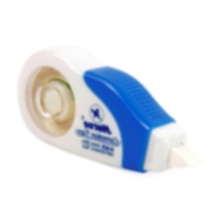correction_fluid: (15, 43, 205, 177)
